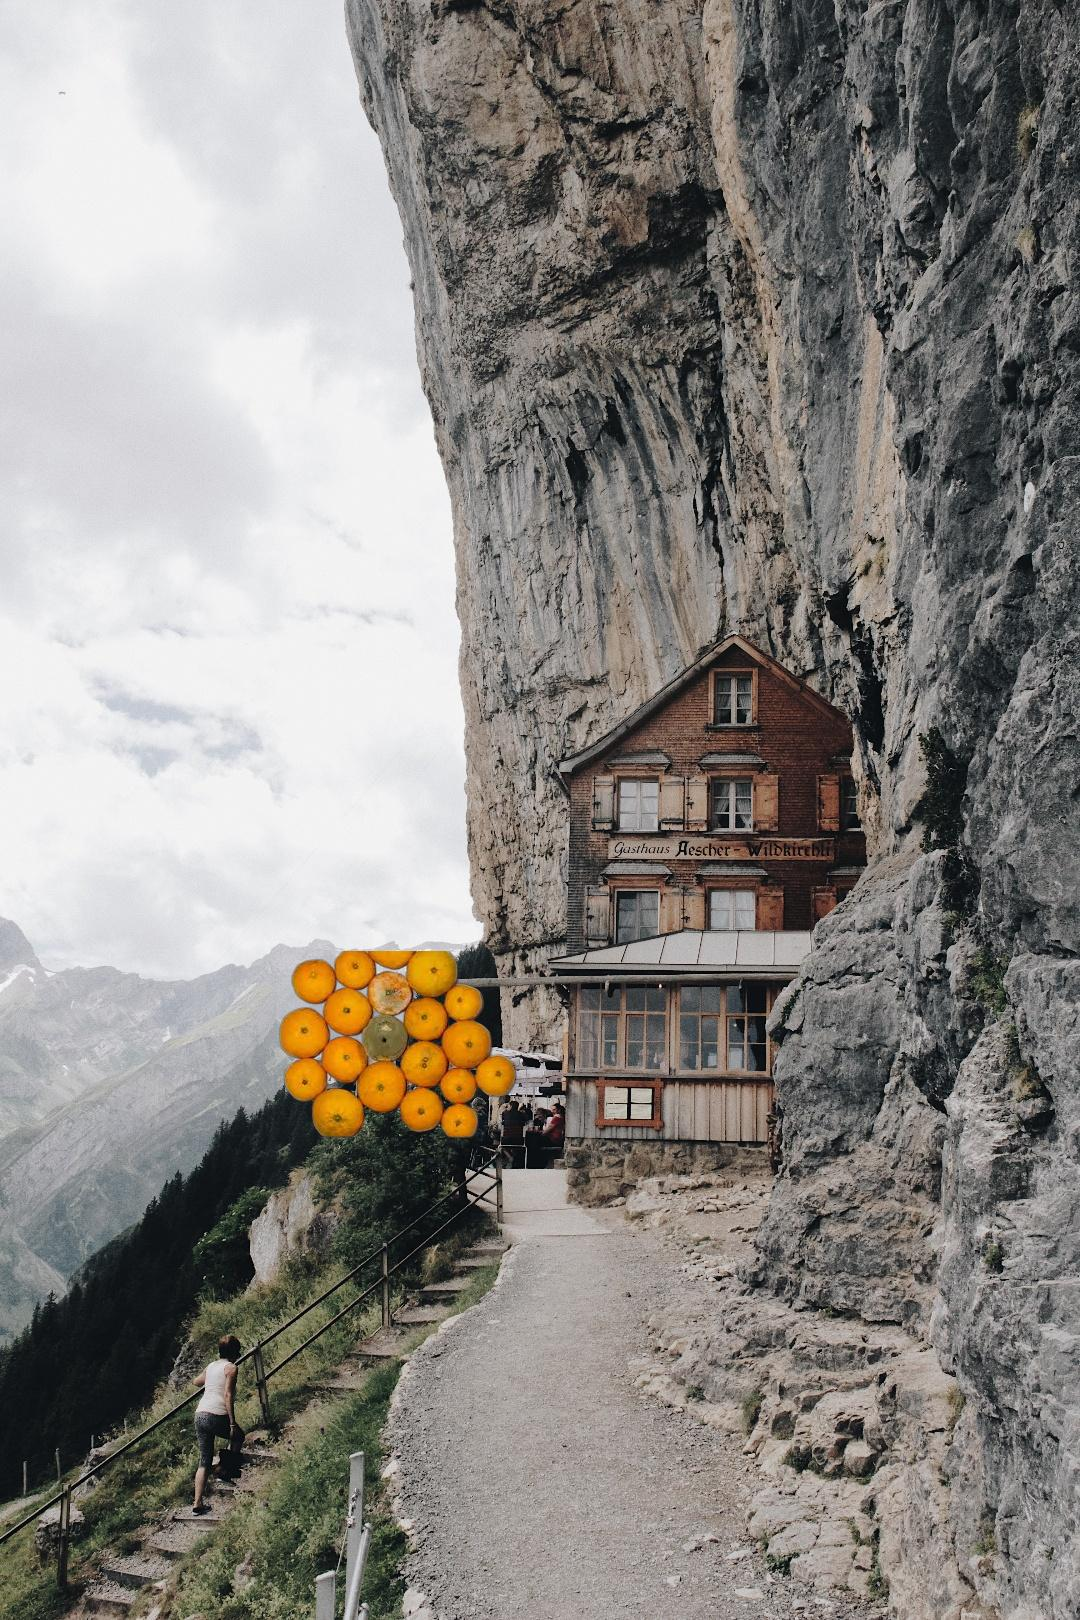biological: (277, 951, 520, 1141)
